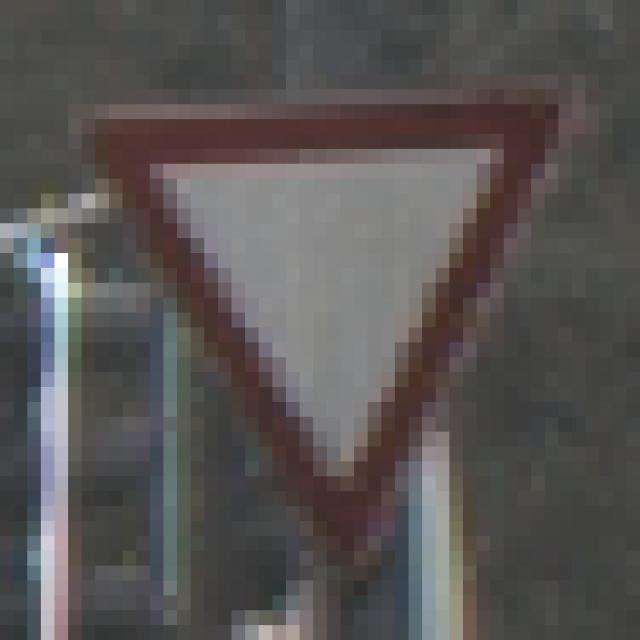Give Way: (69, 76, 573, 567)
